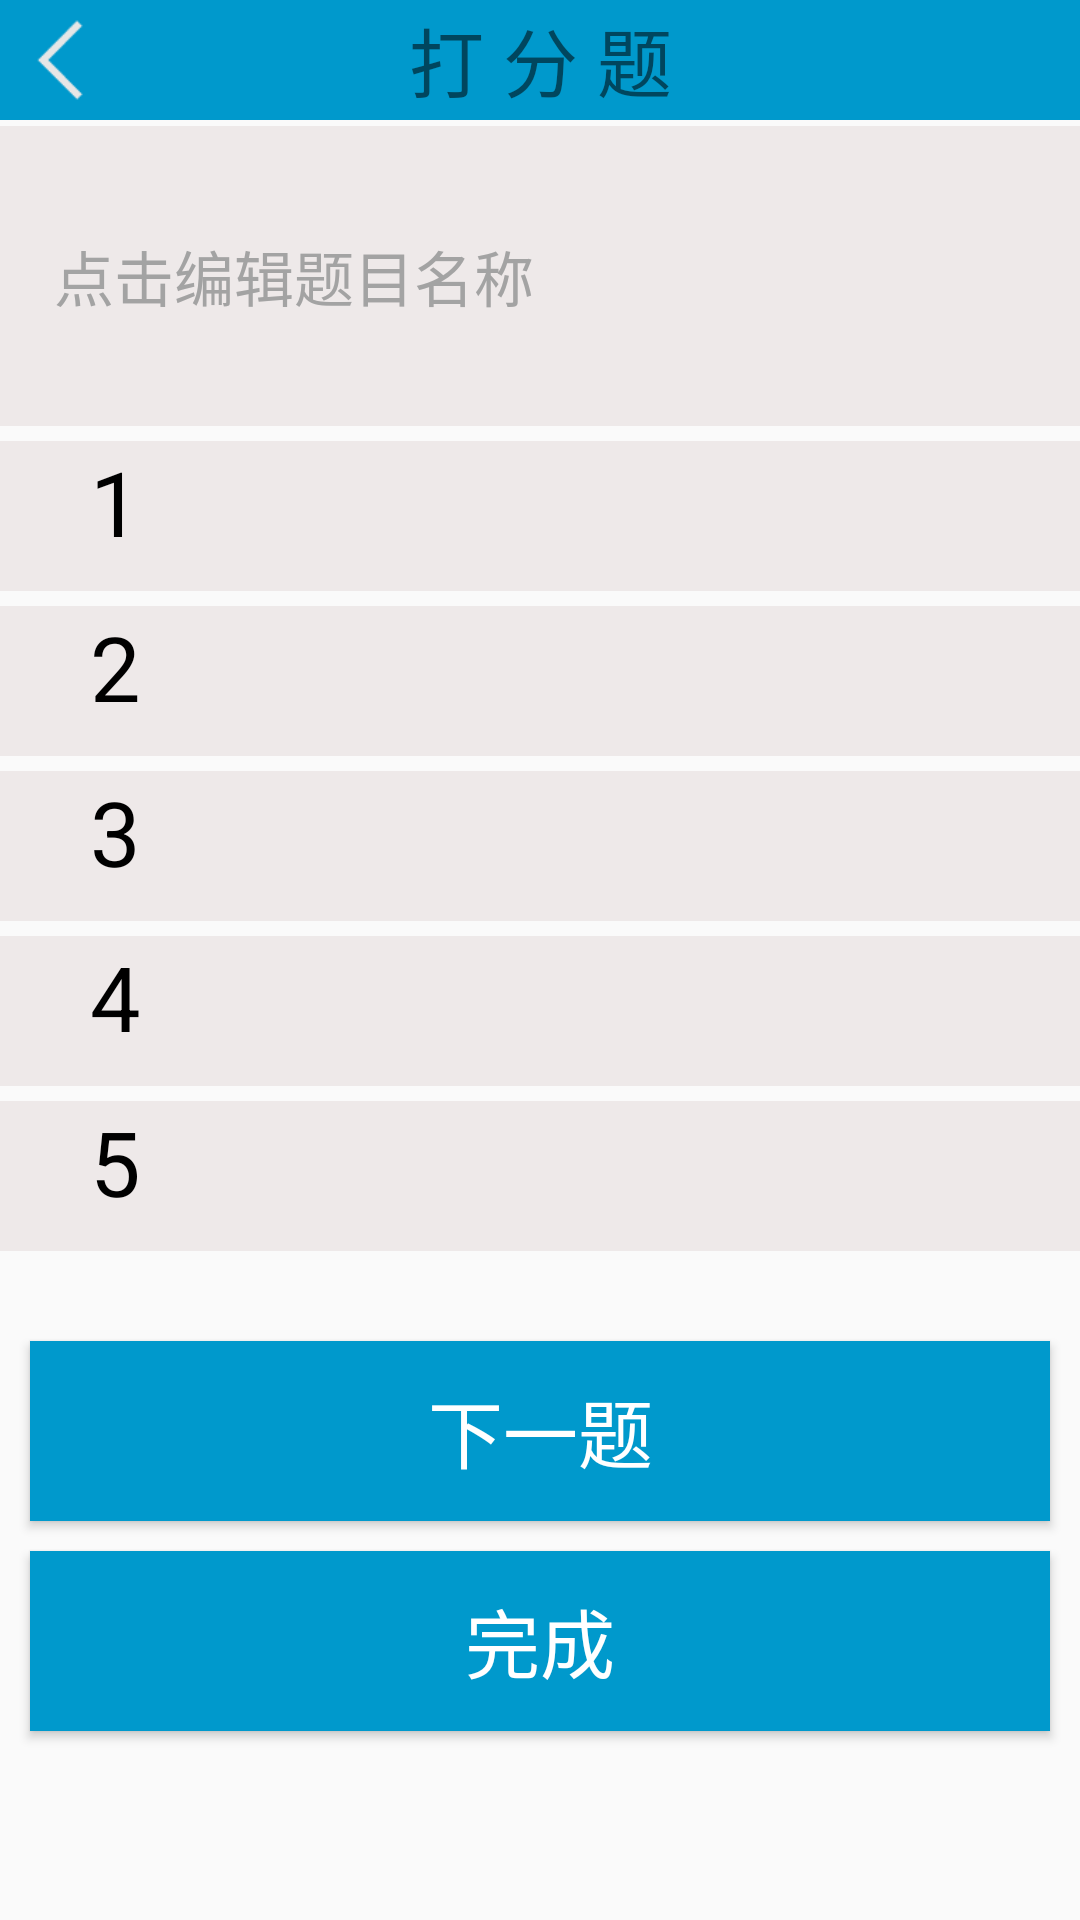

Where to tap for icons on this 1080w x 1920h app screen, as (x,y):
back: (60,60)
